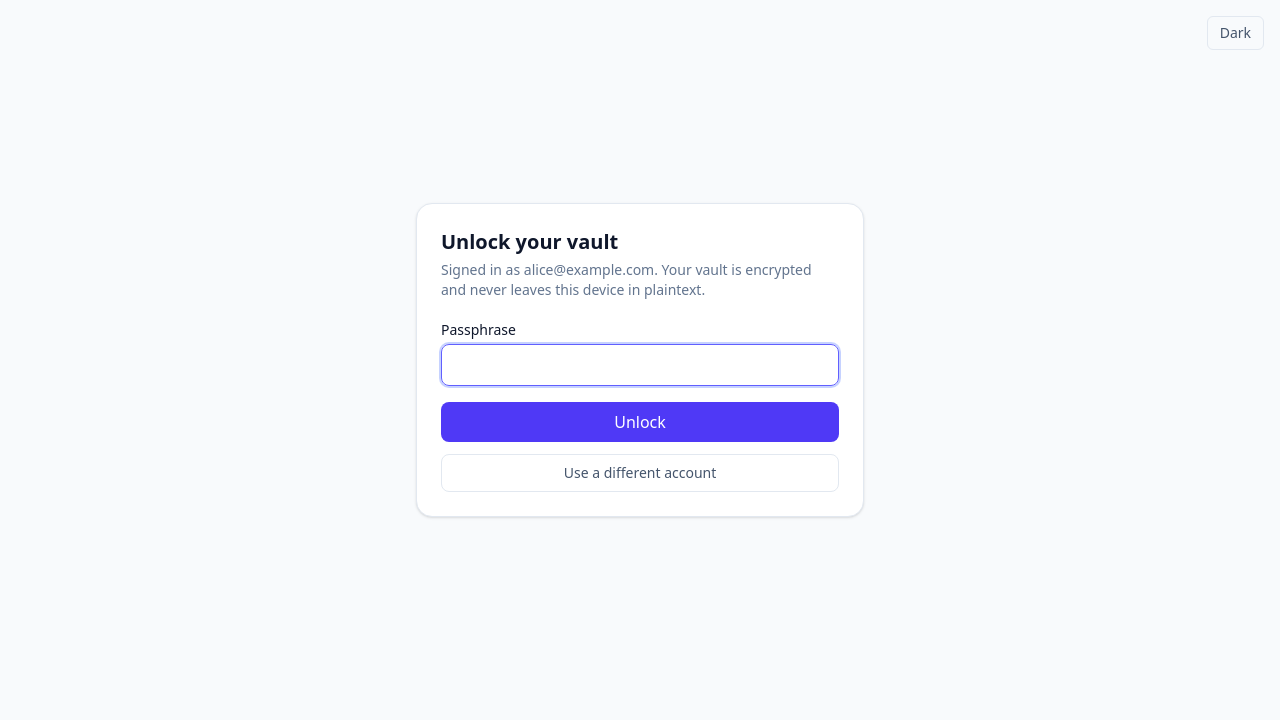
App › verifies the passphrase before entering the ready editor
This screenshot has width=1280, height=720.
Expected: the heading "Unlock your vault" is shown, top-left (441, 228), bottom-right (618, 255)
Type "wrong passphrase long enough" into the password field labelled "Passphrase".
click(640, 365); type("wrong passphrase long enough")  # box top-left (441, 344), bottom-right (839, 386)
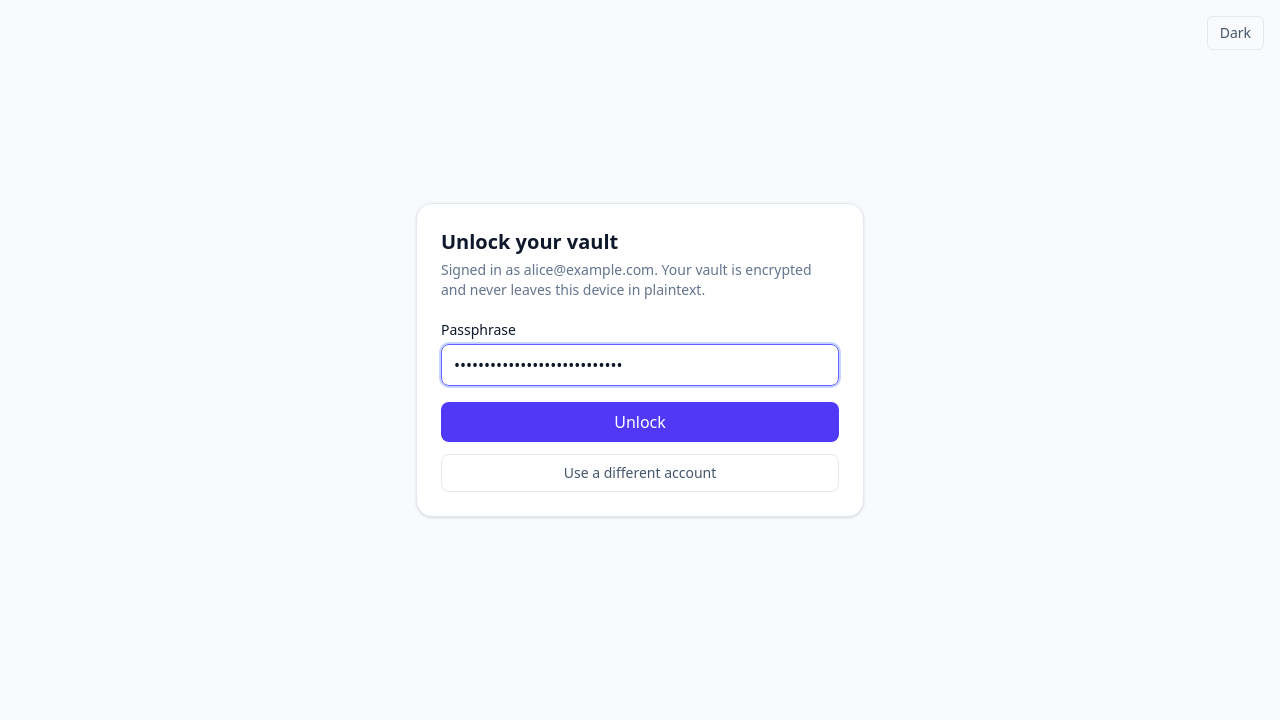
Click the button "Unlock".
click(640, 422)  # box top-left (441, 402), bottom-right (839, 442)
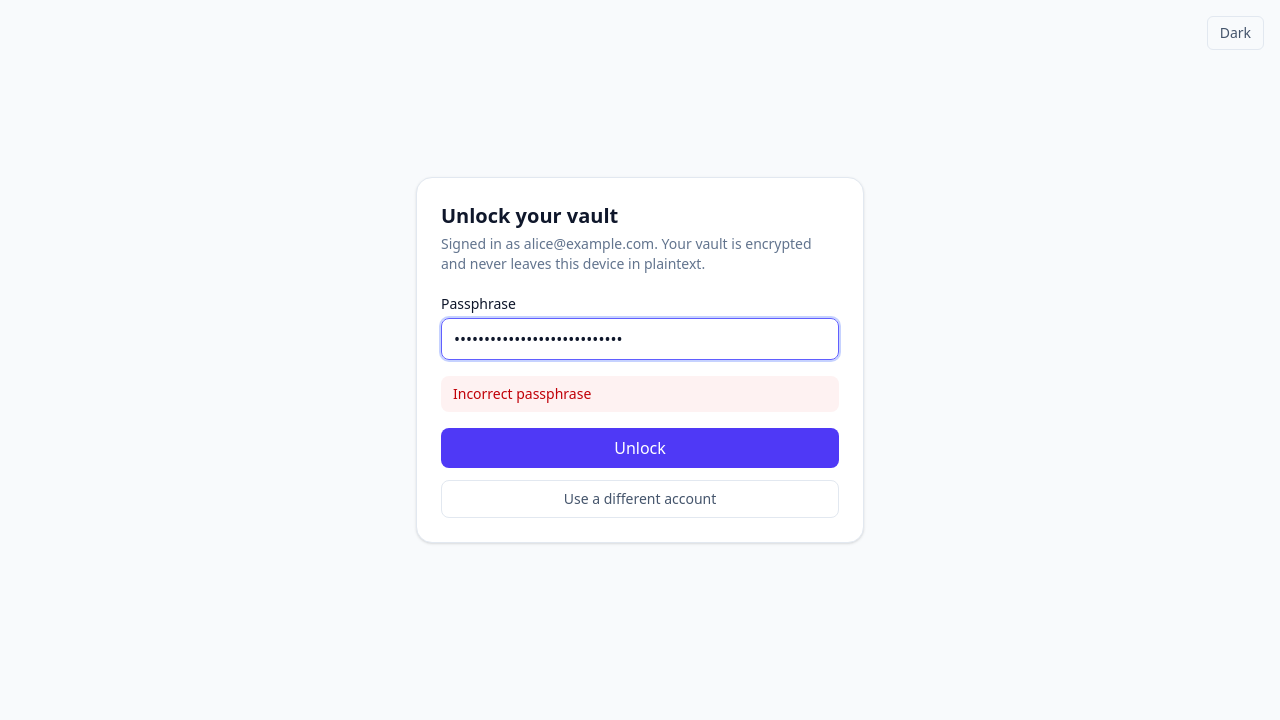
Expected: the text "Incorrect passphrase" is shown, top-left (441, 376), bottom-right (839, 412)
